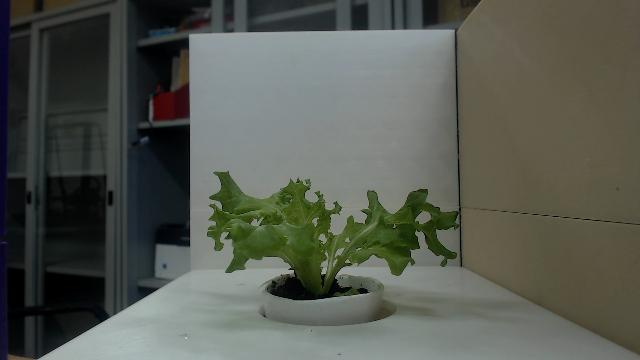Vegetative Stage: (205, 168, 462, 300)
